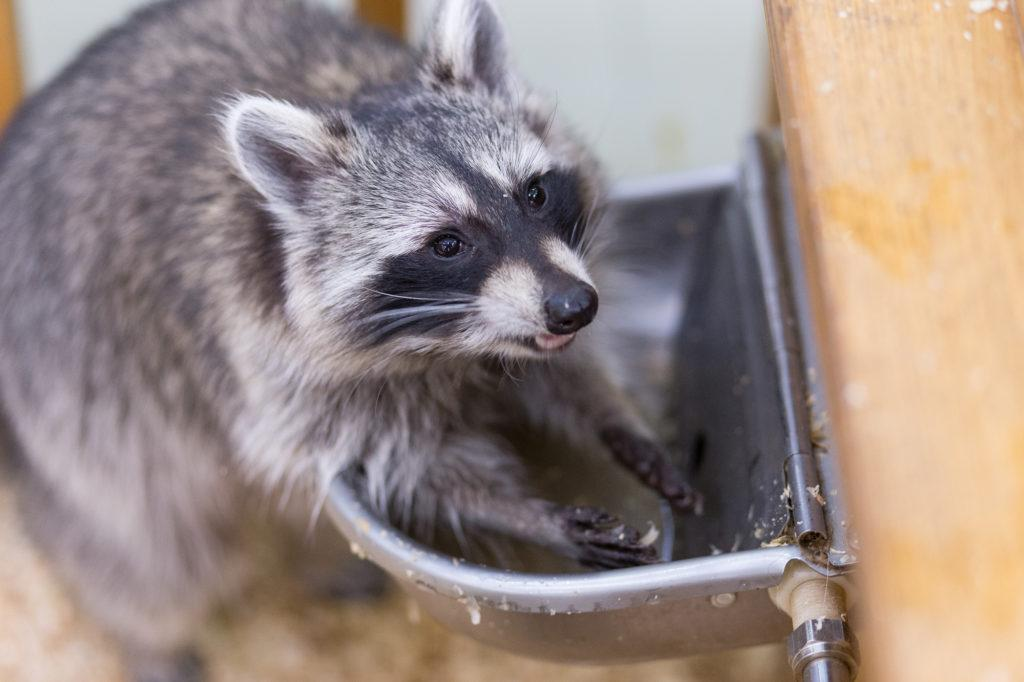raccoon: (1, 0, 703, 682)
